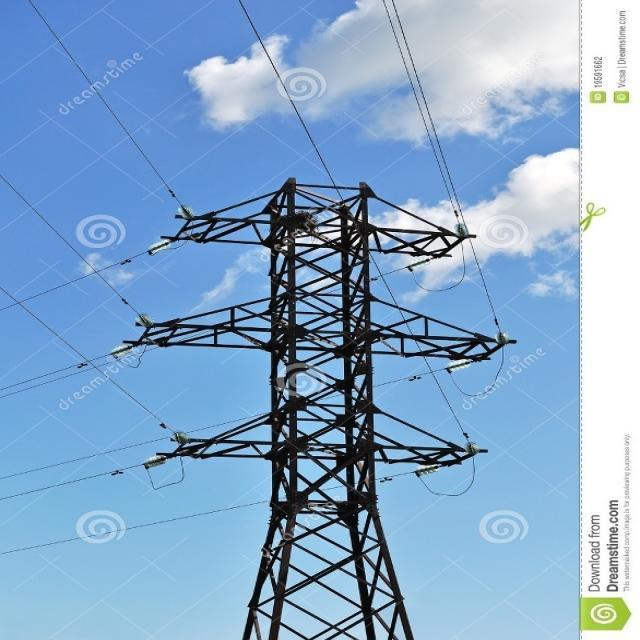non-critical vegetation: (133, 177, 494, 630)
